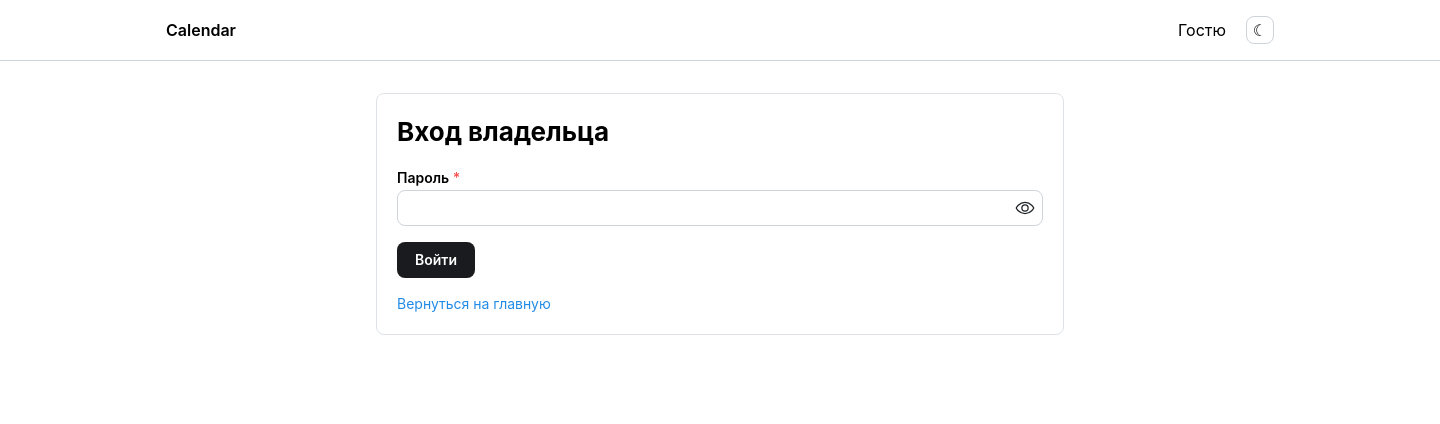
Test case: shows the server message for a wrong password and stays on the login page
Type "wrong" into the password field labelled "Пароль *" at (720, 208), box 398,191 -> 1042,225
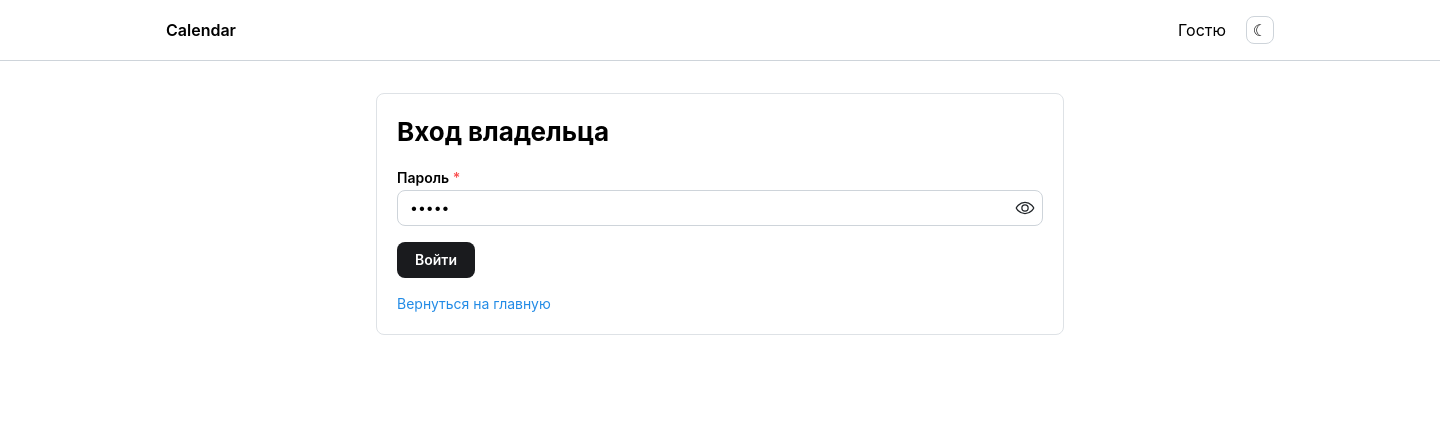
Click the button "Войти" at (436, 260), box 397,242 -> 475,278
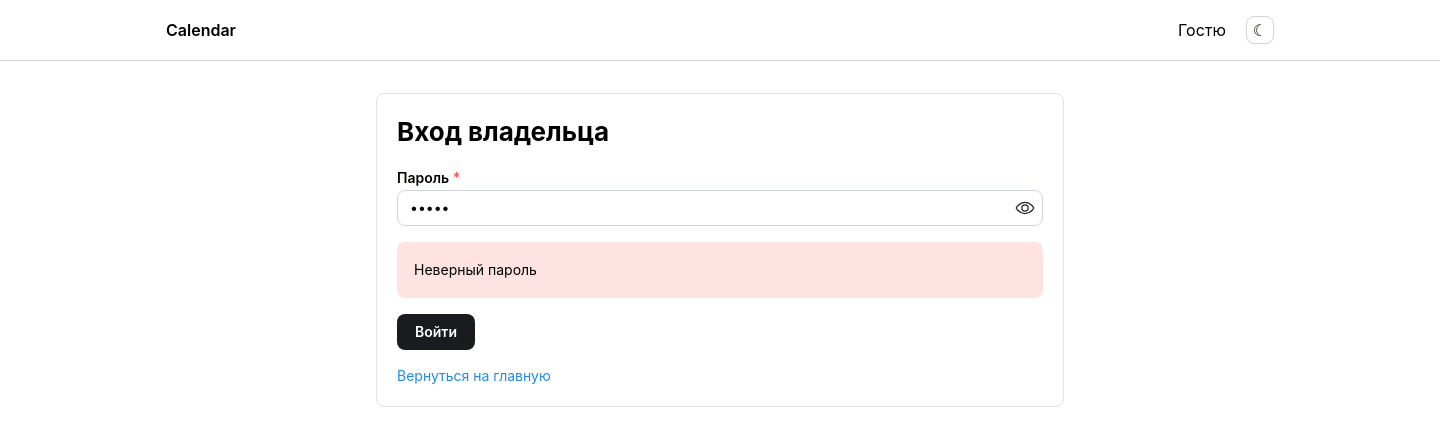
Expected: the text "Неверный пароль" is shown, 414,261 -> 537,278
